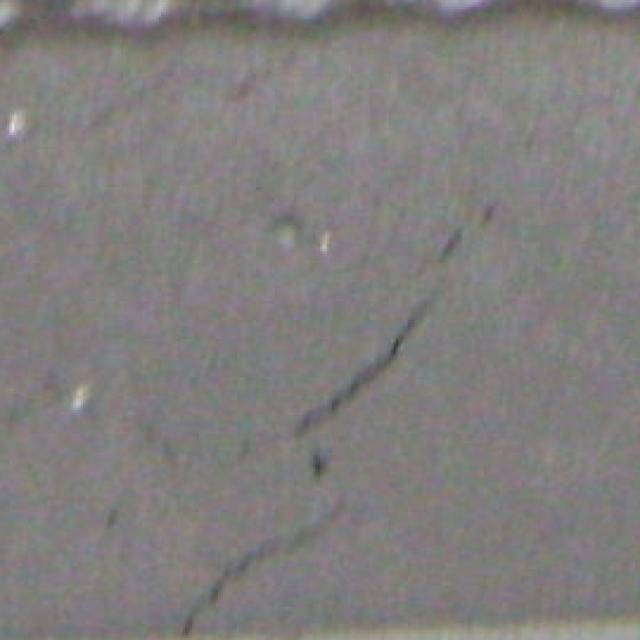Cracks: (150, 158, 550, 638)
